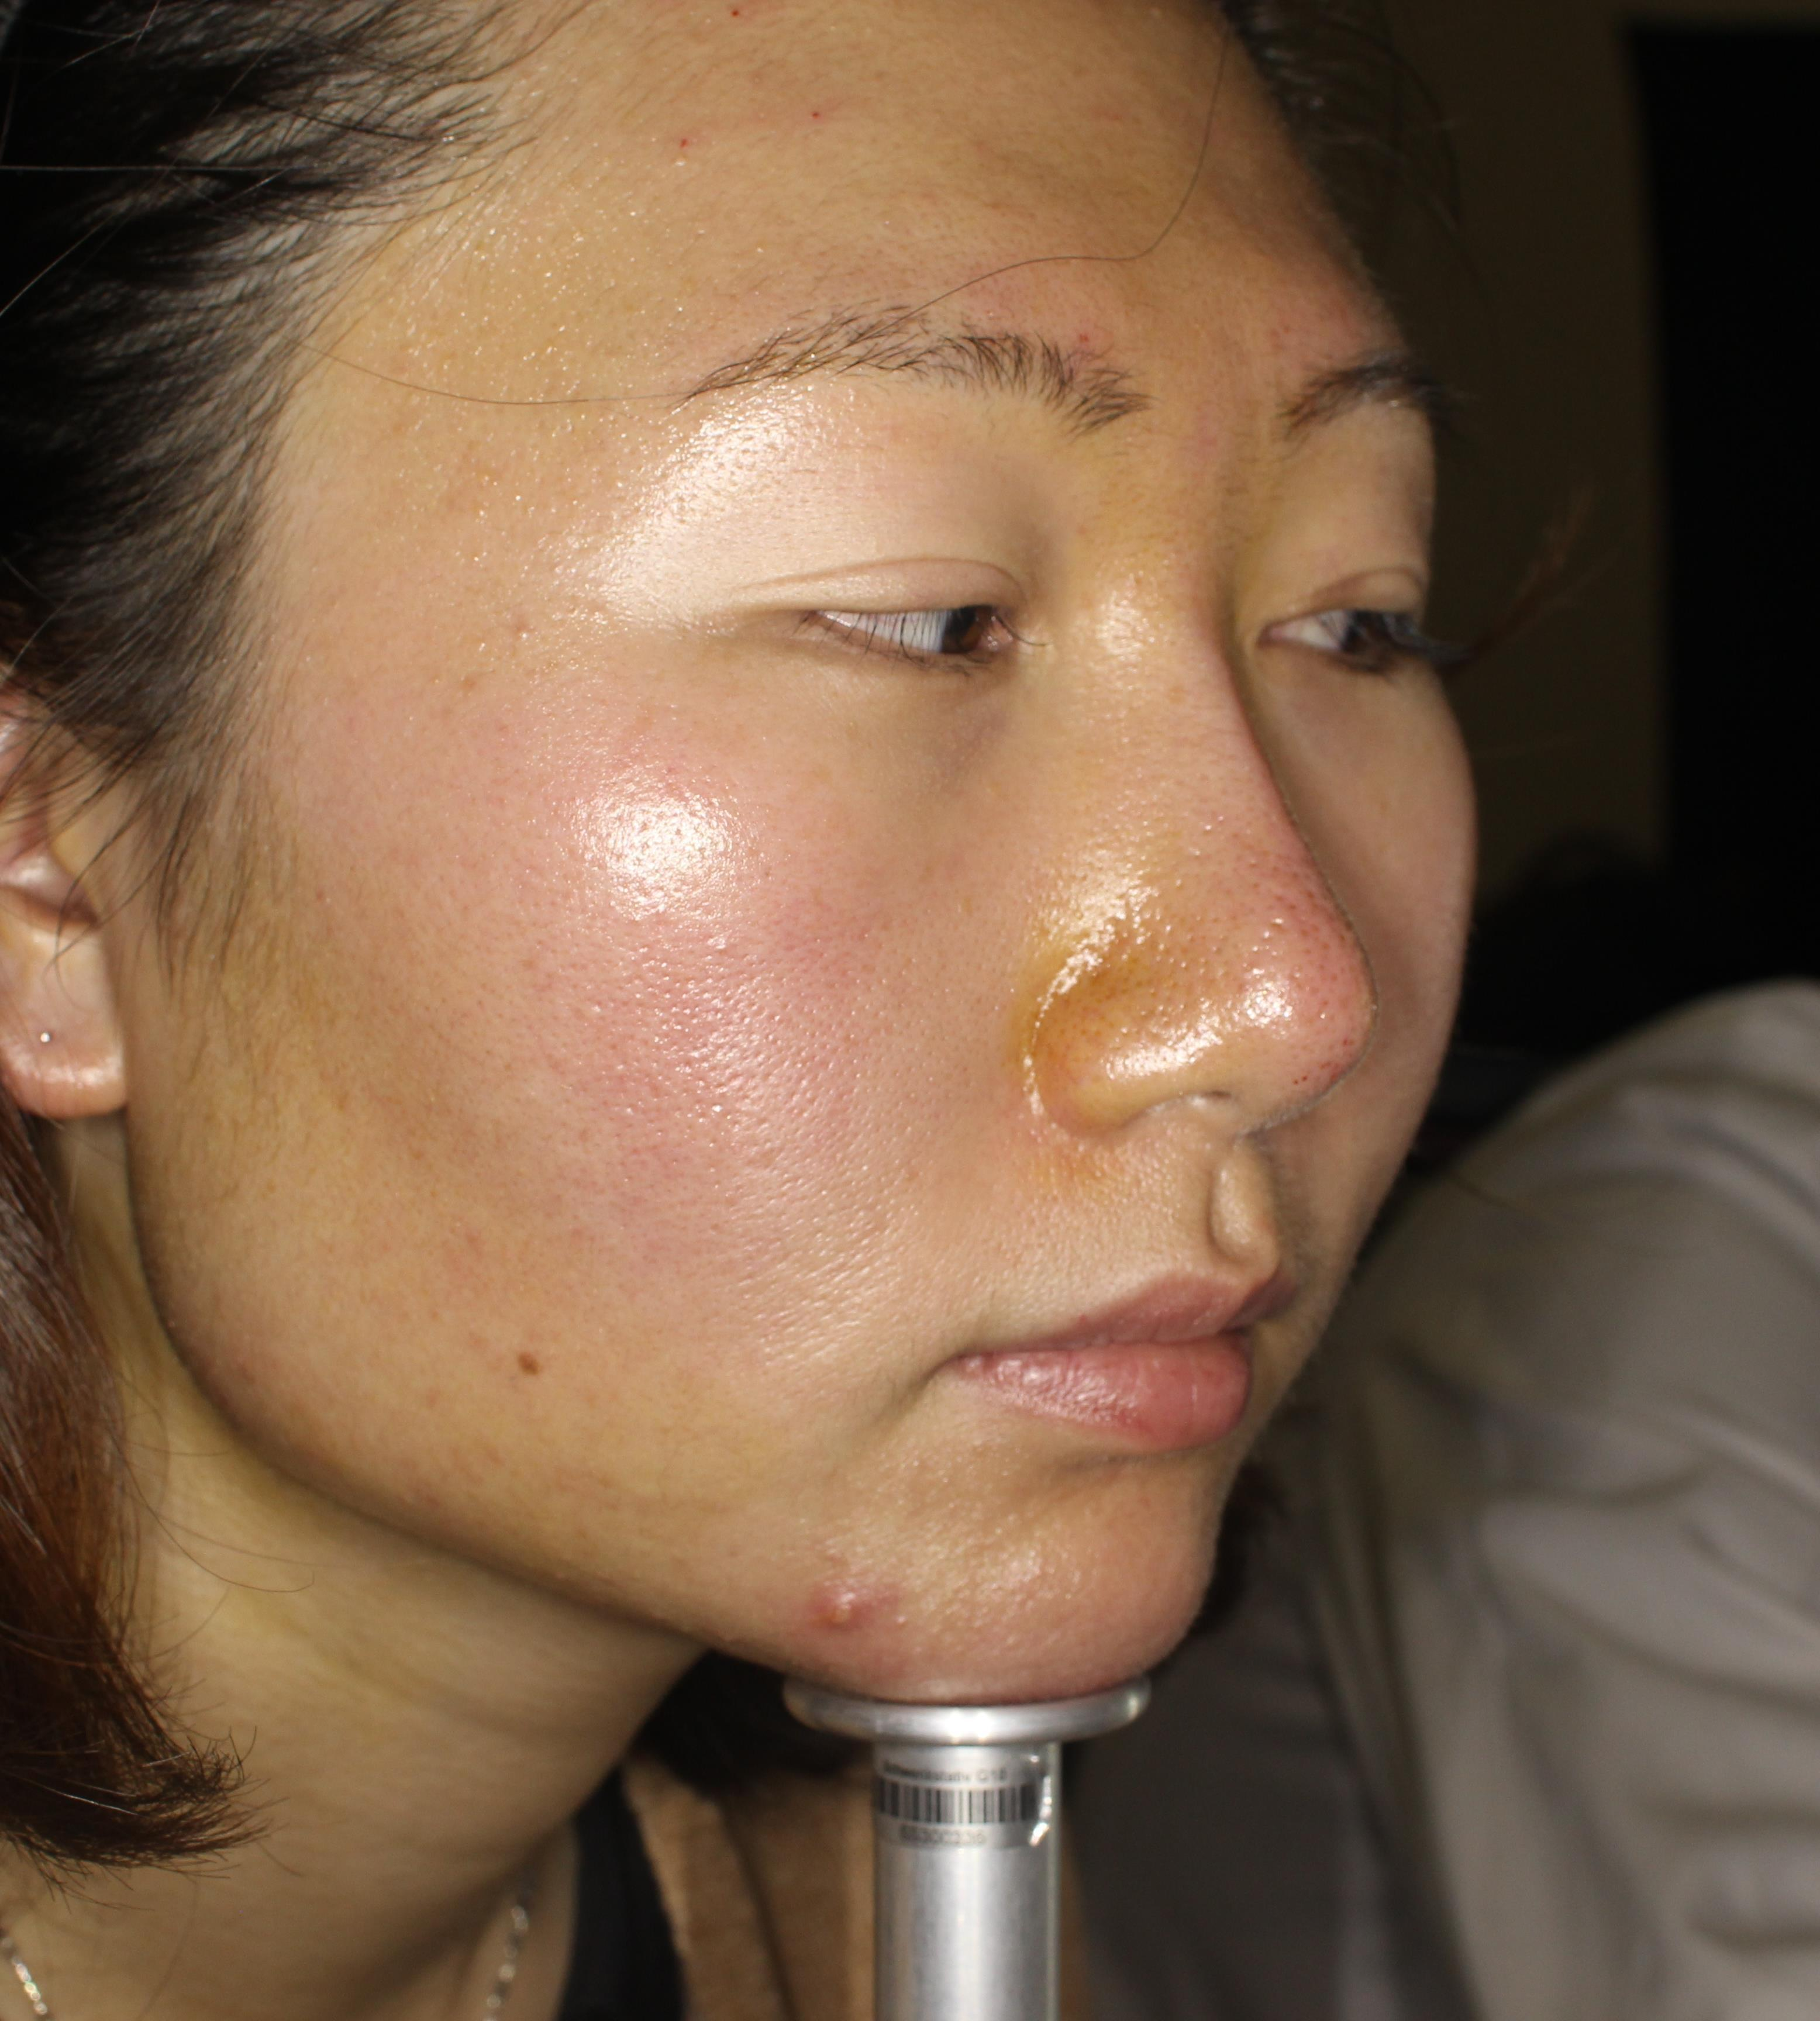fore: (808, 1557, 915, 1670)
